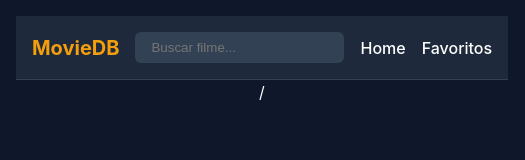
it: submete busca e navega para rota de pesquisa
Type "Matrix" into the field with placeholder "Buscar filme..." at (240,48), box top-left (136, 32), bottom-right (344, 63)
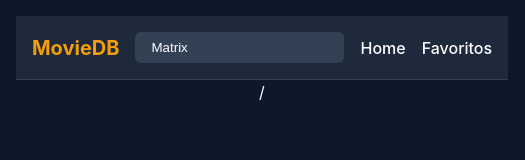
Submit the form, box top-left (136, 32), bottom-right (344, 63)
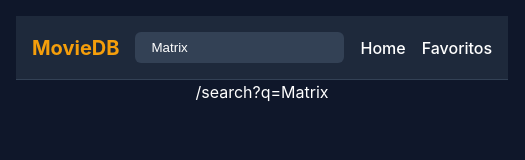
expect the text with test id "location" reads "/search?q=Matrix": met, box top-left (196, 82), bottom-right (329, 102)
